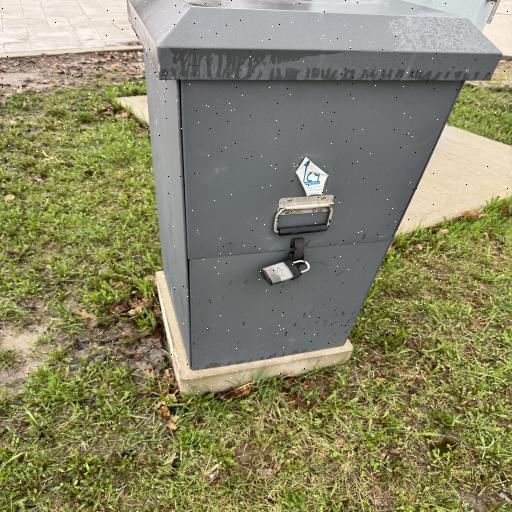Electrical Box: (113, 0, 502, 372)
